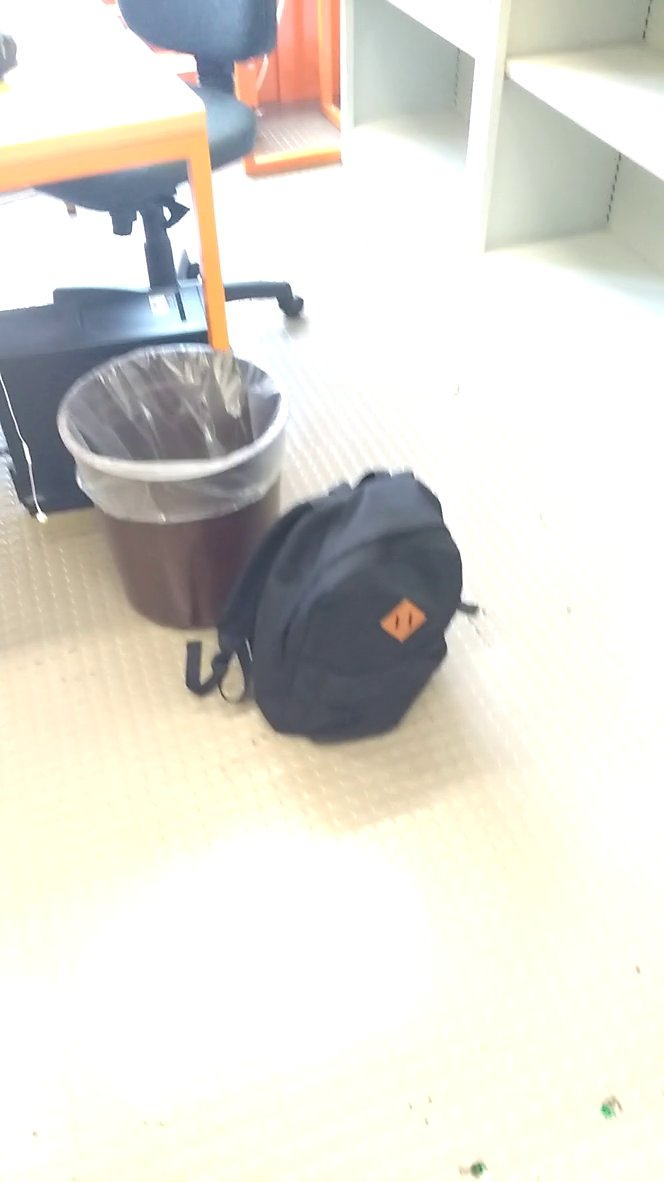bag: (179, 463, 488, 752)
bin: (51, 331, 301, 636)
chair: (20, 3, 305, 289)
